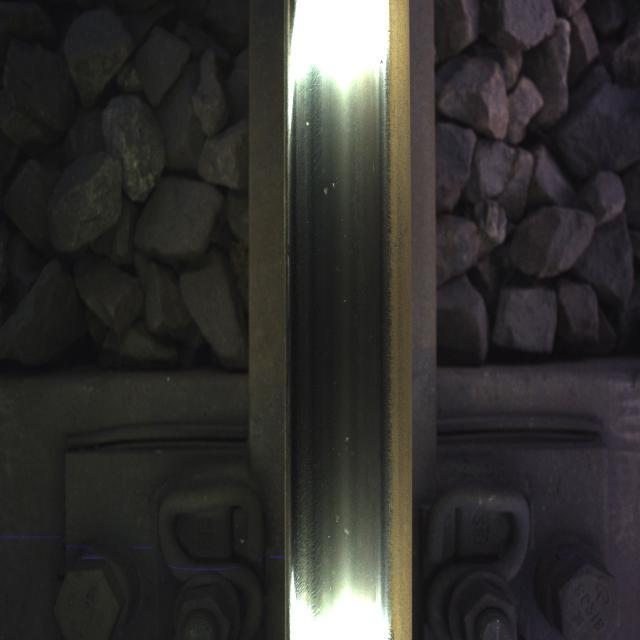break: (280, 0, 390, 640)
